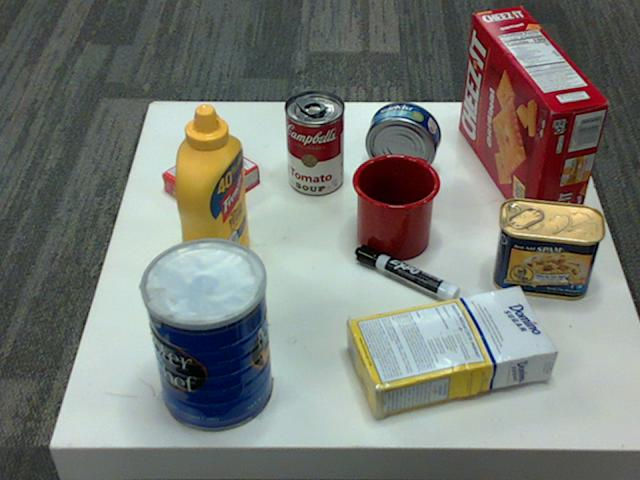cracker_box: (458, 4, 608, 231)
gelatin_box: (160, 138, 259, 214)
large_marker: (355, 245, 460, 308)
master_chef_can: (137, 240, 271, 434)
mug: (349, 152, 438, 258)
mustard_bottle: (172, 104, 249, 288)
potted_meat_can: (491, 198, 603, 300)
sugar_box: (343, 284, 554, 417)
tomato_soup_can: (284, 91, 344, 195)
tuna_fish_can: (364, 101, 439, 176)
